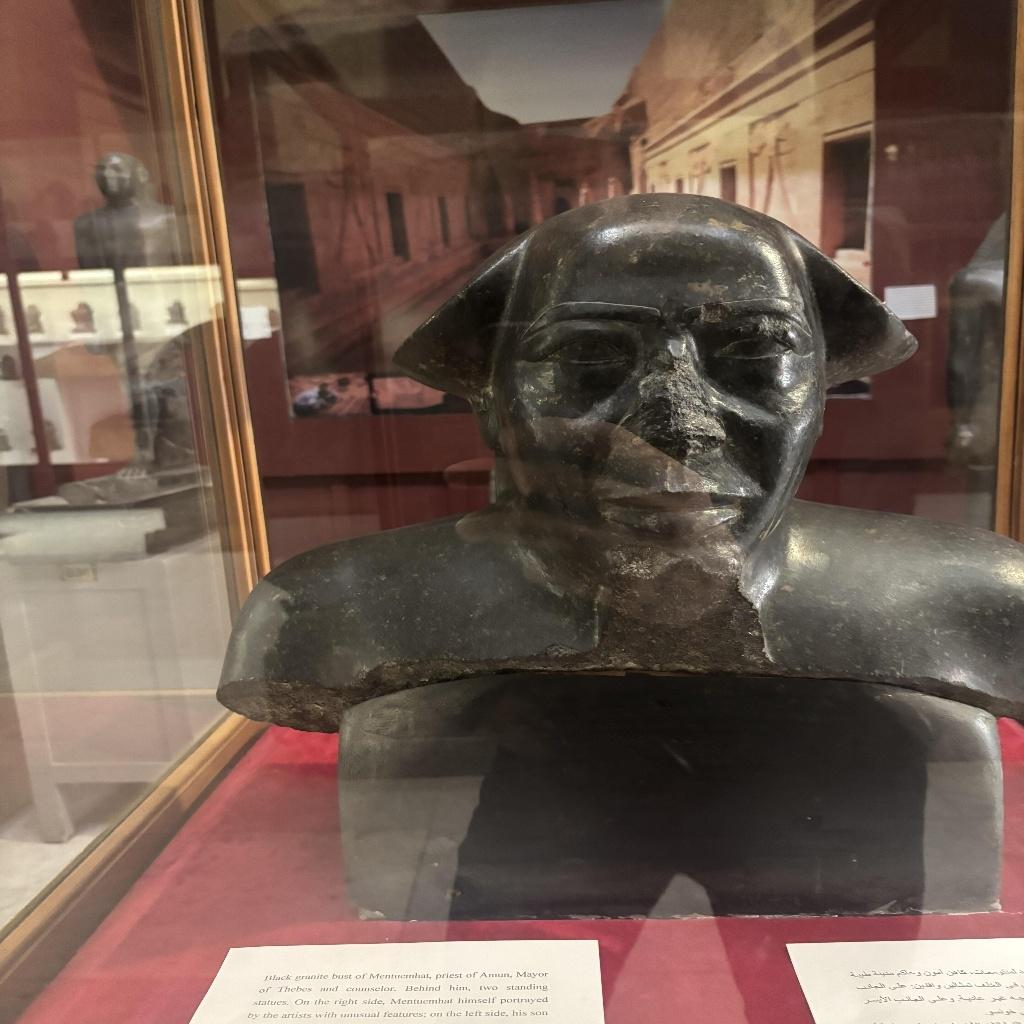Black Granite Bust of Mentuemhat: (194, 191, 1024, 918)
